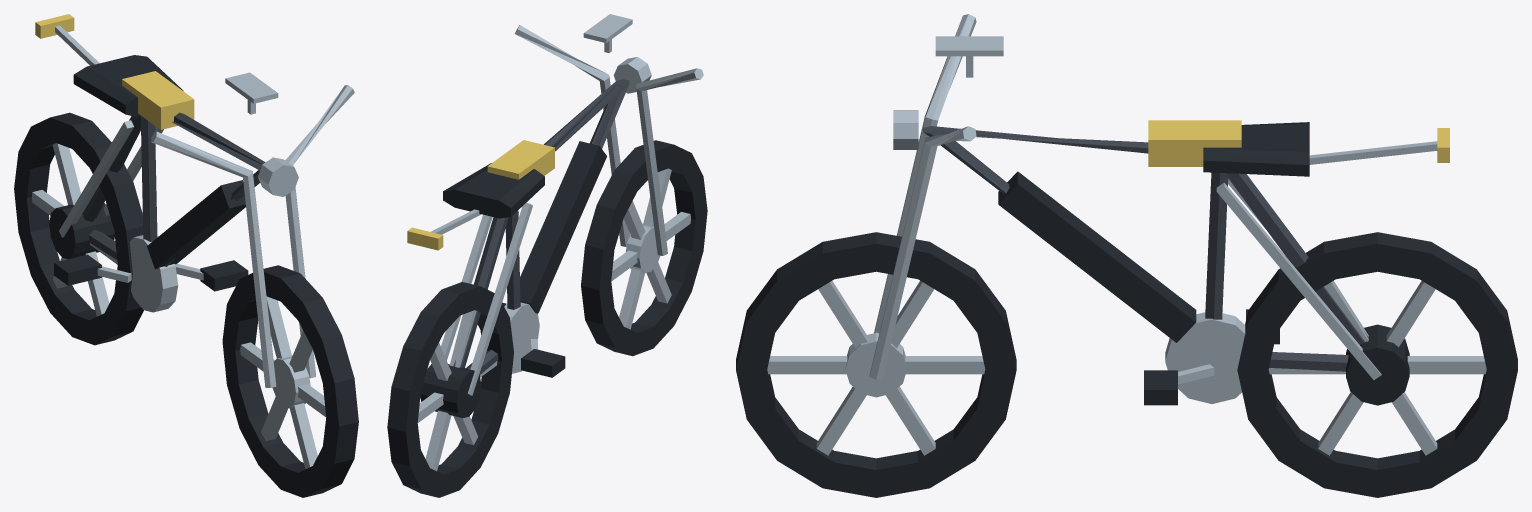
File: ebike-carbon.glb
3 renders of one model, left to right at view 1: azimuth 30°, elevation 25°; view 2: azimuth 150°, elevation 25°; view 3: azimuth 270°, elevation 25°, orthographic. The views are drawn at different scales.
Parts seen in each view (by area): view 1: bike_body, wheel_front, wheel_rear, fork_mesh; view 2: bike_body, wheel_front, wheel_rear, fork_mesh; view 3: bike_body, wheel_front, wheel_rear, fork_mesh.
Boxes of the visible parts, bbox=[...] form: bike_body: bbox=[35, 14, 265, 312]; wheel_front: bbox=[222, 265, 358, 497]; wheel_rear: bbox=[14, 112, 143, 345]; fork_mesh: bbox=[151, 72, 354, 387]; bike_body: bbox=[407, 79, 629, 417]; wheel_front: bbox=[581, 140, 707, 356]; wheel_rear: bbox=[387, 282, 513, 497]; fork_mesh: bbox=[515, 14, 703, 255]; bike_body: bbox=[923, 120, 1449, 405]; wheel_front: bbox=[736, 232, 1016, 497]; wheel_rear: bbox=[1237, 232, 1517, 497]; fork_mesh: bbox=[869, 14, 1003, 379].
Size of the model in its own units: 0.6582 by 1.16 by 1.84.
